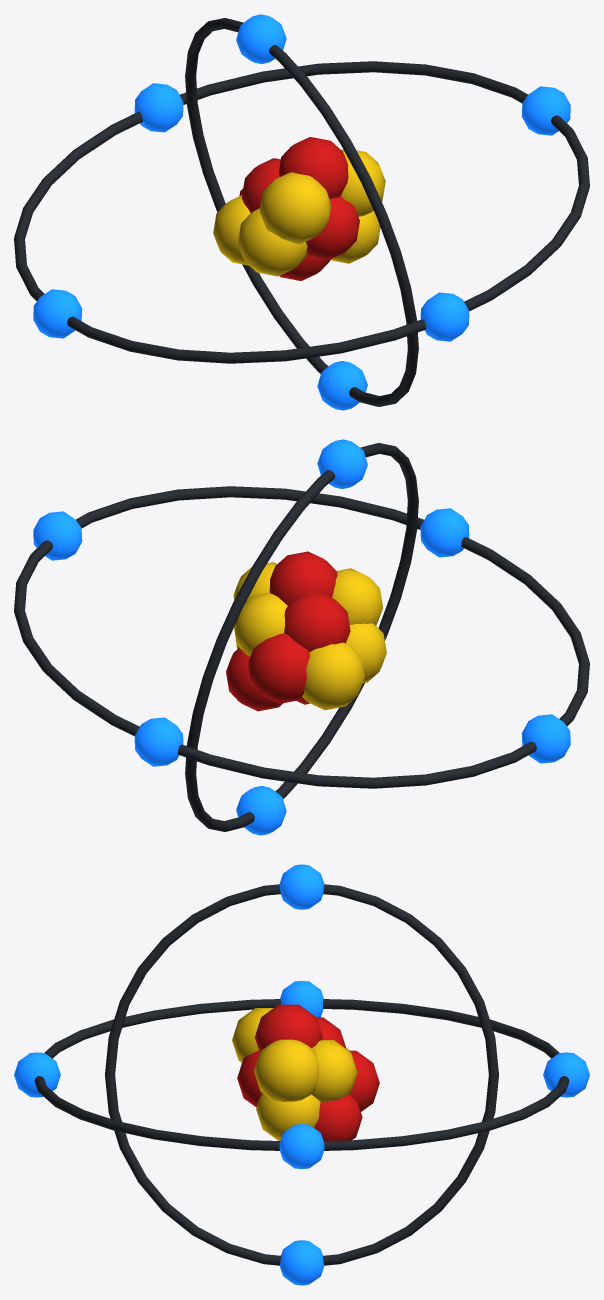
Rendered from Atom_C.fbx.
3 renders of one model, top to bottom at view 1: azimuth 30°, elevation 25°; view 2: azimuth 150°, elevation 25°; view 3: azimuth 270°, elevation 25°, orthographic. The views are drawn at different scales.
Visible parts, largest first — view 1: C_Orbit_2, C_Inti_Atom, C_Orbit_1; view 2: C_Orbit_2, C_Inti_Atom, C_Orbit_1; view 3: C_Orbit_2, C_Orbit_1, C_Inti_Atom.
Part boxes in pixels (<box>): C_Orbit_2: <box>14,61,589,363</box>; C_Inti_Atom: <box>213,137,385,280</box>; C_Orbit_1: <box>185,14,418,410</box>; C_Orbit_2: <box>14,486,589,788</box>; C_Inti_Atom: <box>226,551,386,711</box>; C_Orbit_1: <box>185,439,418,835</box>; C_Orbit_2: <box>14,981,589,1168</box>; C_Orbit_1: <box>105,864,498,1285</box>; C_Inti_Atom: <box>232,1004,379,1140</box>.
Size of the model in its own units: 1.33 by 0.9809 by 1.35.
